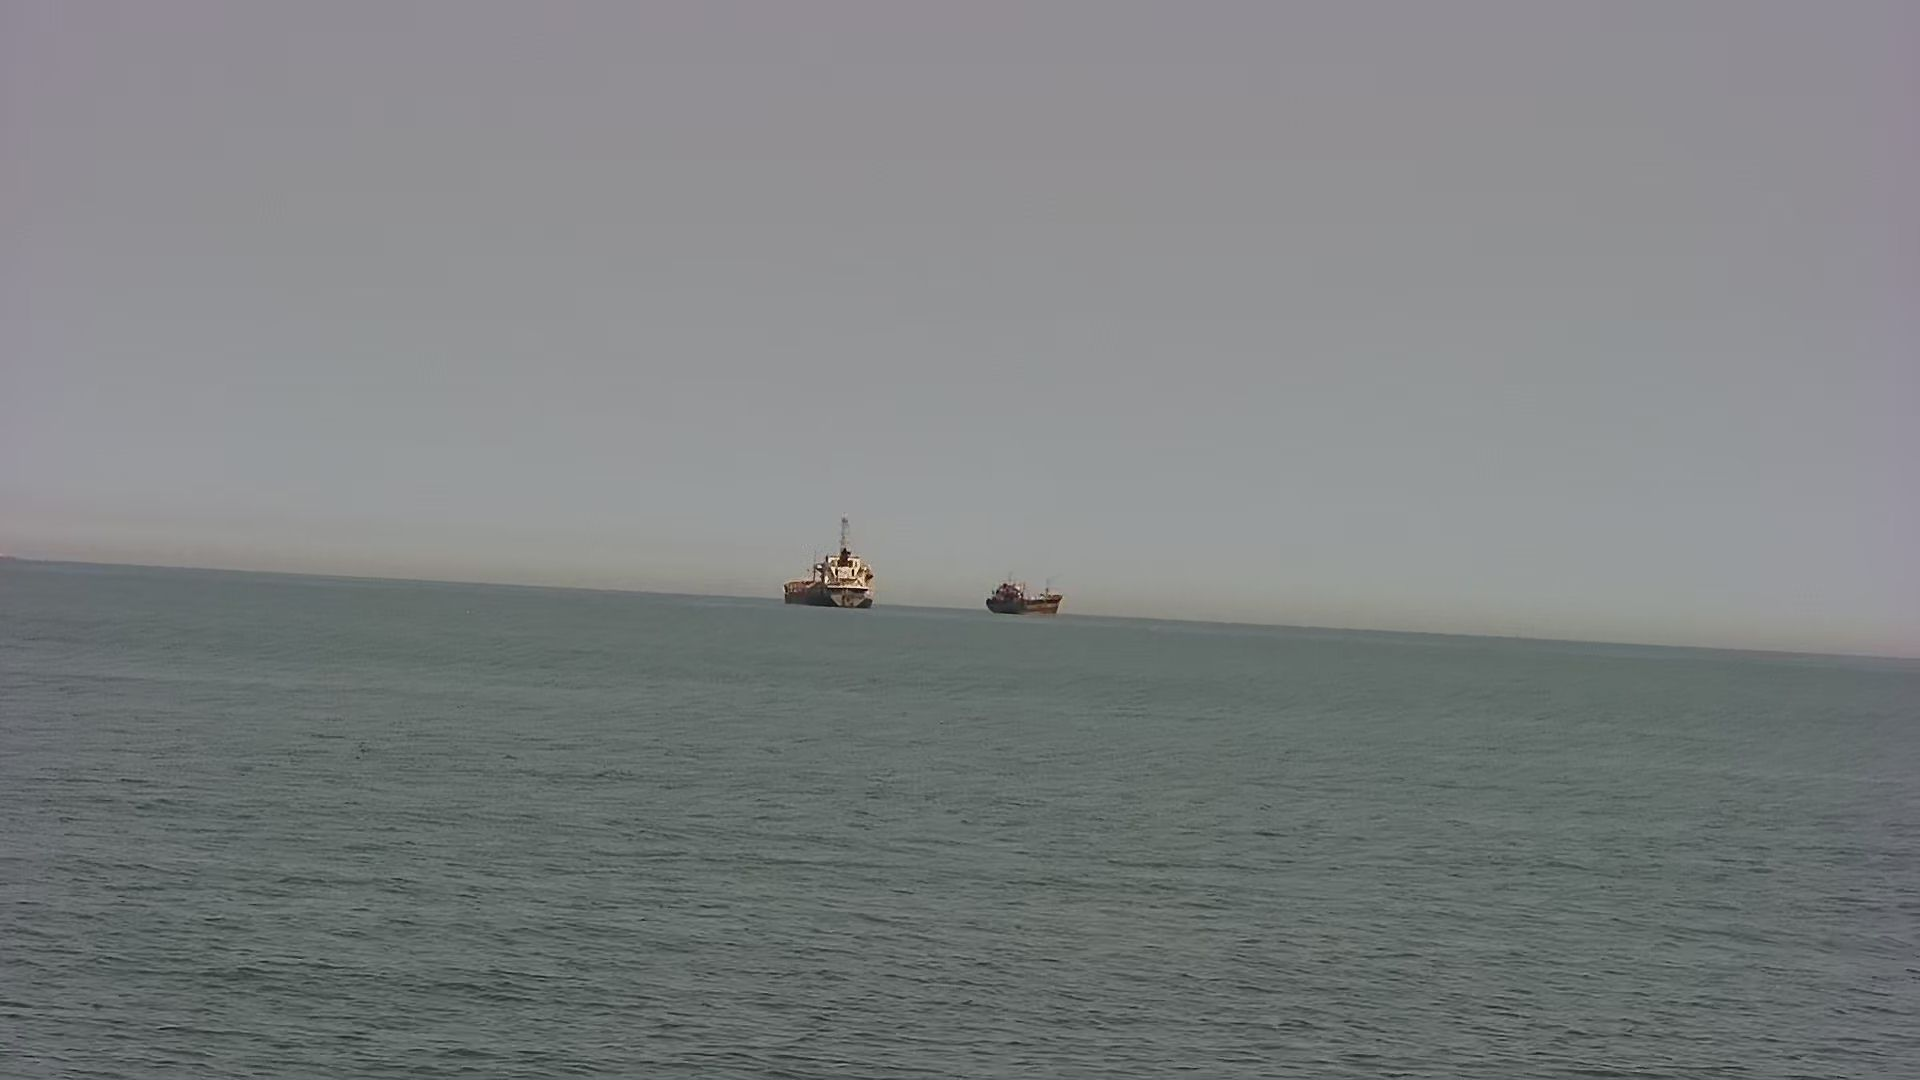ship: (785, 512, 874, 611), (984, 571, 1063, 615)
